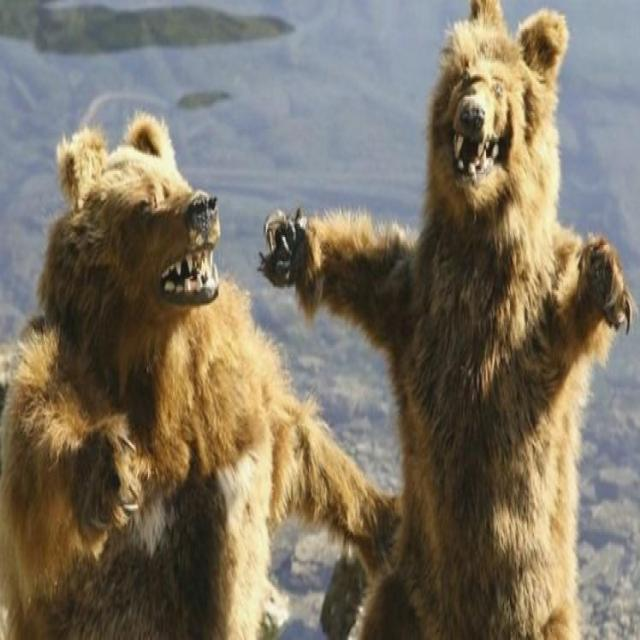Bear: (262, 0, 633, 640), (0, 114, 402, 640)
